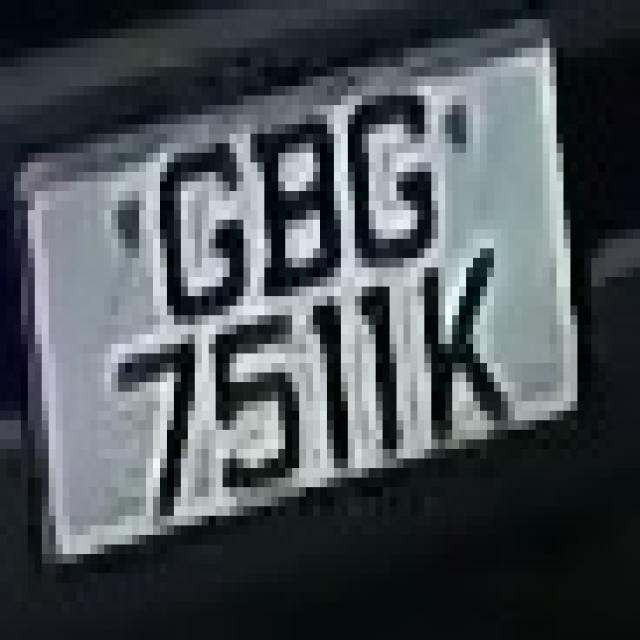1: (299, 239, 362, 516), (348, 258, 424, 487)
5: (195, 277, 299, 516)
7: (104, 334, 209, 544)
B: (230, 96, 354, 315)
G: (132, 115, 251, 344), (348, 67, 459, 258)
K: (403, 229, 508, 459)
